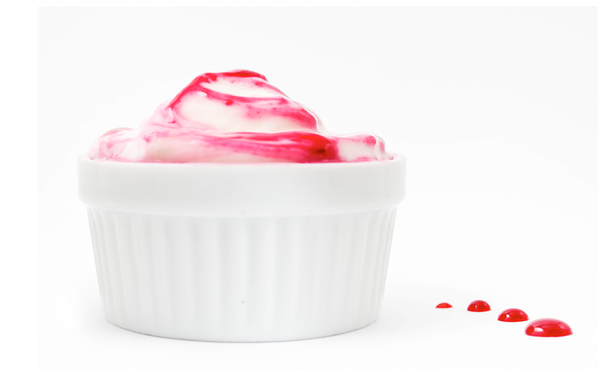pizza: (74, 72, 408, 343)
